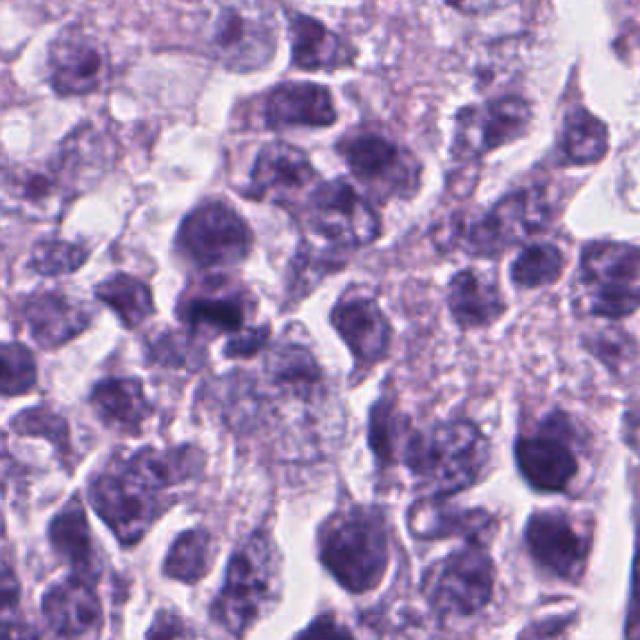mitotic_figure: (173, 272, 254, 330)
tumor: (427, 163, 558, 280), (275, 175, 383, 310), (365, 368, 436, 497), (50, 507, 134, 607), (409, 533, 490, 625), (331, 120, 420, 203), (204, 517, 270, 628), (315, 497, 393, 590), (509, 402, 588, 493), (442, 80, 520, 168), (327, 280, 395, 377), (84, 472, 163, 550), (41, 17, 118, 95), (413, 418, 493, 493), (197, 0, 284, 67), (170, 190, 250, 262), (275, 5, 356, 75), (86, 358, 157, 433), (518, 505, 586, 580), (583, 237, 640, 323), (241, 142, 316, 207), (5, 287, 89, 343), (41, 573, 107, 640), (547, 95, 606, 167), (11, 405, 77, 468), (109, 445, 204, 487), (438, 265, 501, 327), (2, 153, 72, 207), (261, 82, 336, 132), (89, 265, 150, 325), (50, 118, 122, 163), (159, 522, 207, 580), (23, 238, 86, 280), (509, 240, 558, 290), (223, 317, 275, 358), (408, 497, 456, 538)
unlabeled: (265, 340, 327, 402), (583, 318, 640, 377), (454, 498, 497, 540), (474, 55, 501, 92)
